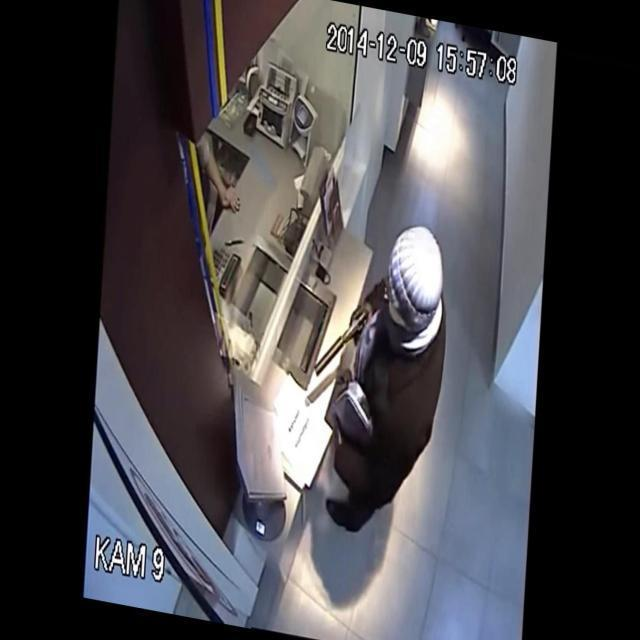pistol: (316, 303, 366, 386)
